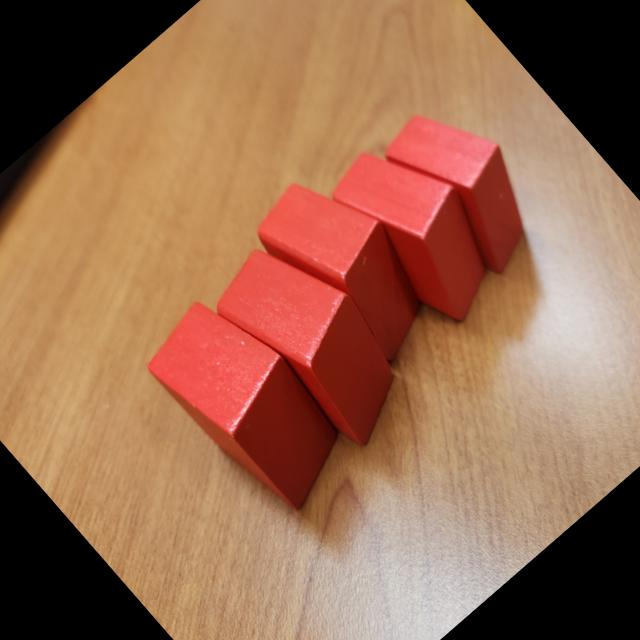red: (134, 280, 368, 526), (200, 220, 432, 462), (243, 154, 456, 376), (319, 119, 526, 336), (374, 84, 564, 282)
